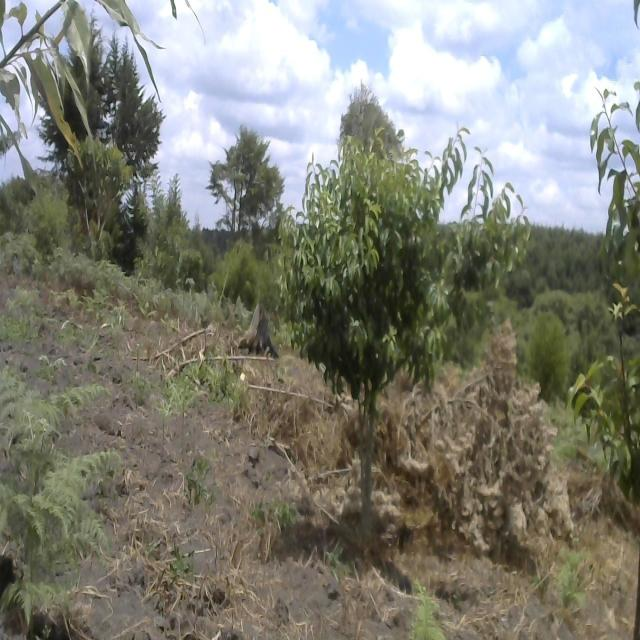Juniperus procesera: (39, 0, 102, 179), (104, 21, 163, 188)
Prunus Africana: (280, 105, 535, 549)
